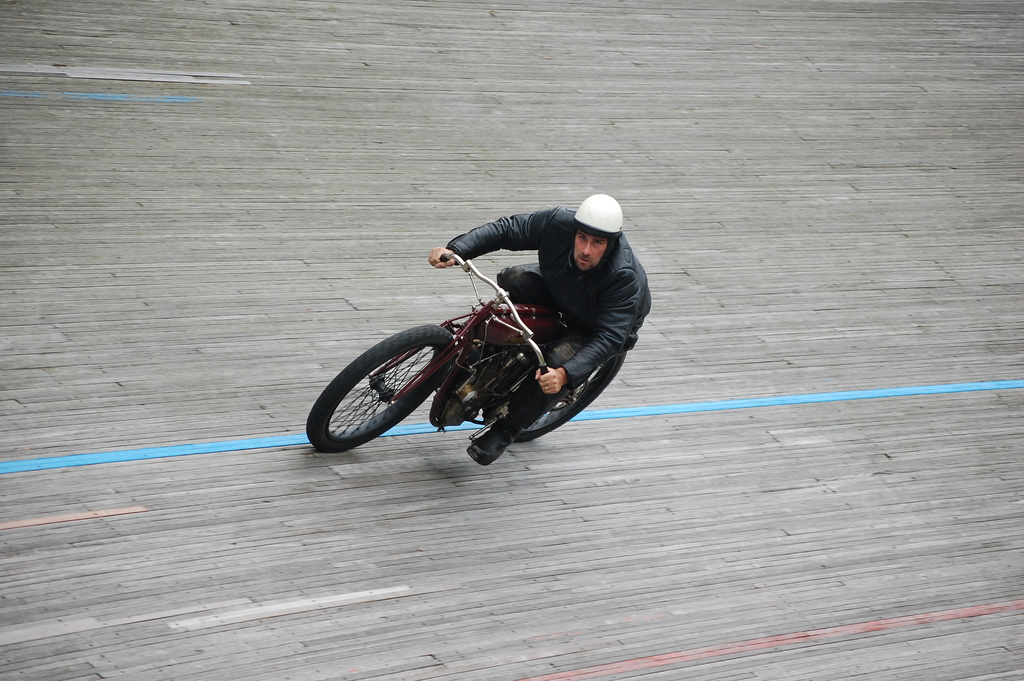Bike_toward: (309, 255, 641, 496)
